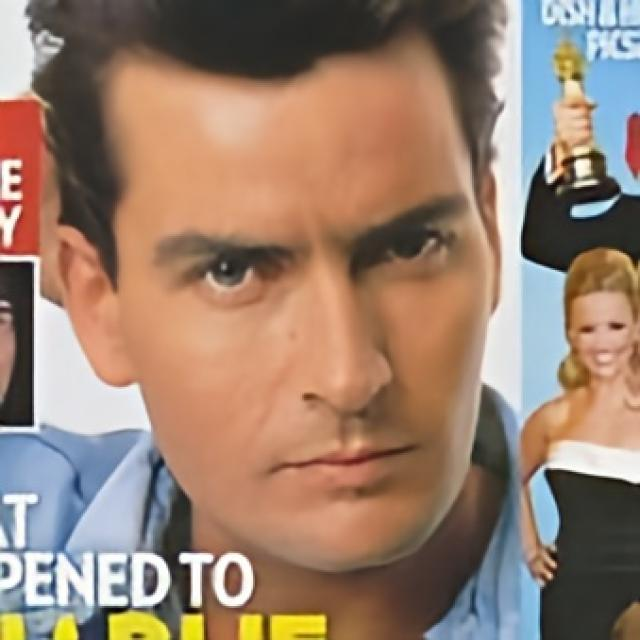anger: (112, 53, 490, 573)
